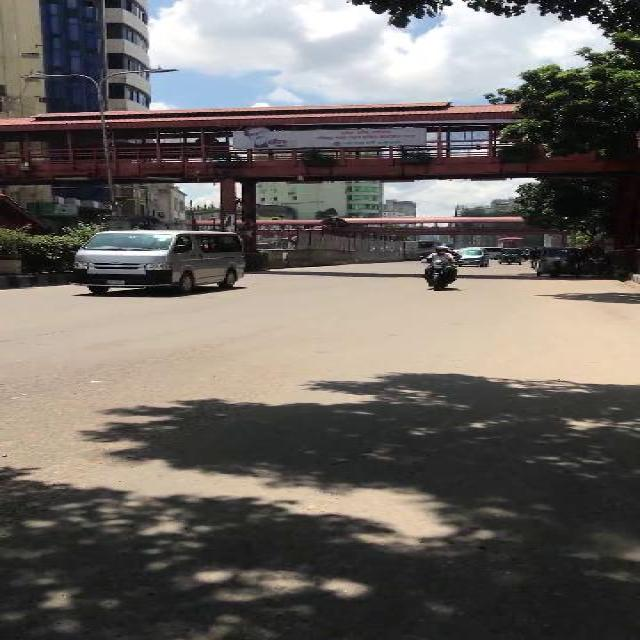bus: (495, 236, 522, 248)
minivan: (453, 246, 489, 266)
motorbike: (418, 242, 460, 290)
three wheelers -CNG-: (533, 246, 576, 278), (497, 247, 520, 265)
van: (65, 228, 244, 294)
